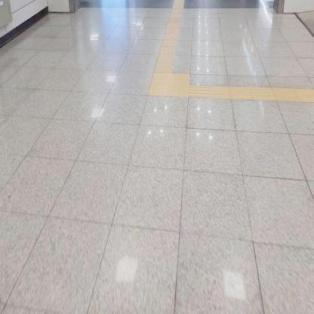Podoctatil: (138, 54, 204, 120), (189, 83, 314, 106), (154, 0, 184, 71)
